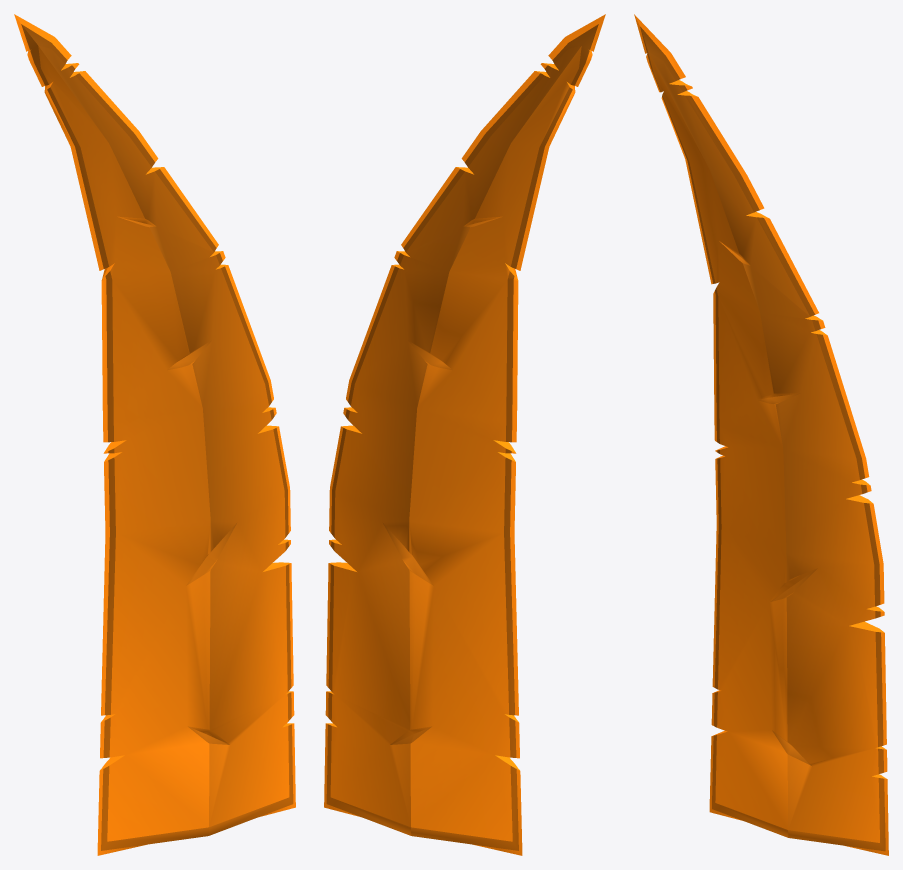
File: bronze_blade_scratched_042.glb
3 renders of one model, left to right at view 1: azimuth 30°, elevation 25°; view 2: azimuth 150°, elevation 25°; view 3: azimuth 330°, elevation 25°, orthographic. The views are drawn at different scales.
Parts seen in each view (by area): view 1: bronze_blade_scratched.042; view 2: bronze_blade_scratched.042; view 3: bronze_blade_scratched.042.
Part boxes in pixels (<box>): bronze_blade_scratched.042: <box>14,14,295,855</box>; bronze_blade_scratched.042: <box>324,14,605,855</box>; bronze_blade_scratched.042: <box>634,14,888,855</box>.
Size of the model in its own units: 4.2 by 12.29 by 0.7262.
Materials: 1 (1 with a texture image).
